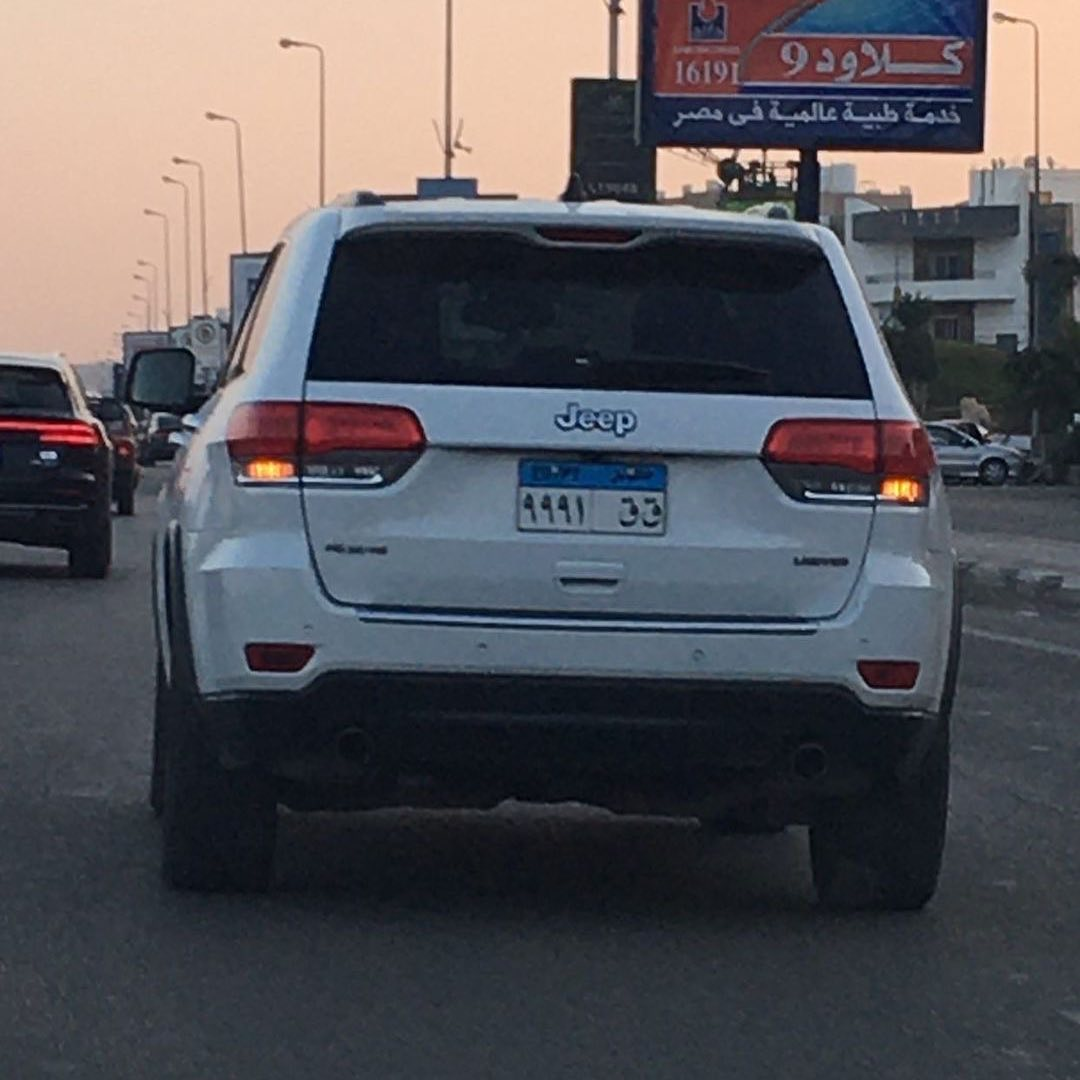carpl: (512, 445, 676, 549)
